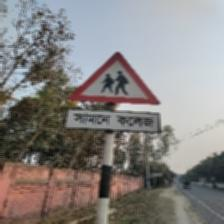College-in-front: (78, 43, 183, 147)
